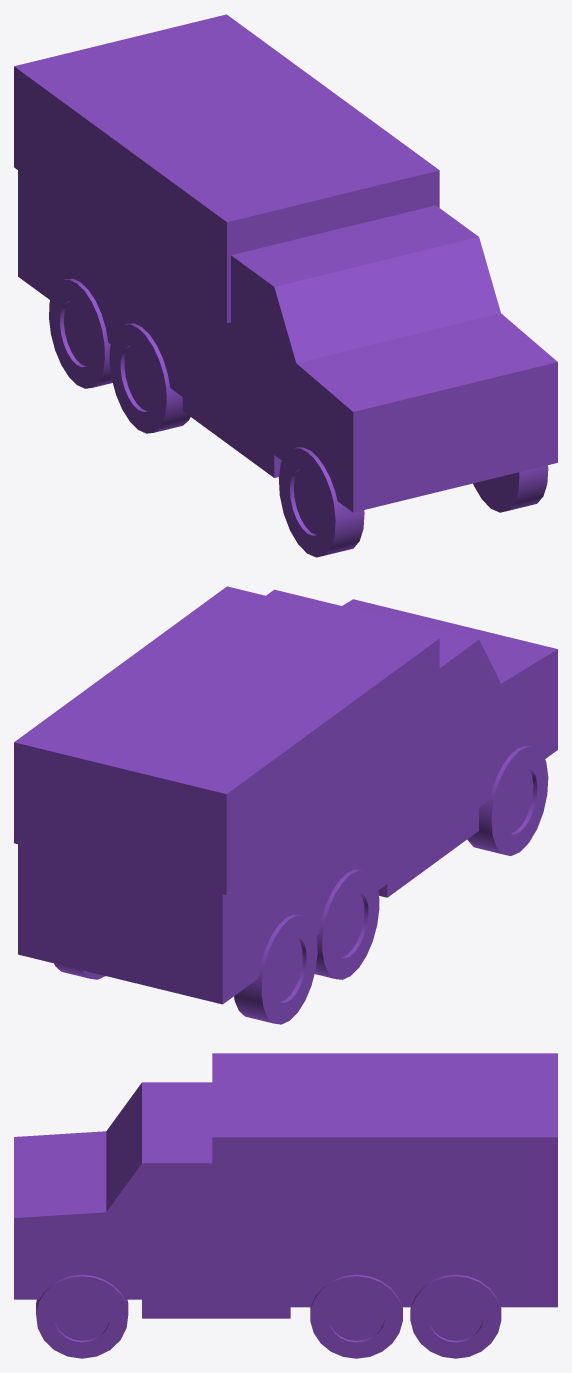
Rendered from Boardgame_Piece_Military_Modern_Truck_Purple_01.fbx.
3 renders of one model, top to bottom at view 1: azimuth 30°, elevation 25°; view 2: azimuth 150°, elevation 25°; view 3: azimuth 270°, elevation 25°, orthographic. The views are drawn at different scales.
Parts seen in each view (by area): view 1: Boardgame_Piece_Military_Modern_Truck_Purple_01; view 2: Boardgame_Piece_Military_Modern_Truck_Purple_01; view 3: Boardgame_Piece_Military_Modern_Truck_Purple_01.
Part boxes in pixels (x1,y1,x2,y2): Boardgame_Piece_Military_Modern_Truck_Purple_01: (14,14,557,557); Boardgame_Piece_Military_Modern_Truck_Purple_01: (14,586,557,1024); Boardgame_Piece_Military_Modern_Truck_Purple_01: (14,1053,557,1358).
Size of the model in its own units: 25.31 by 31 by 69.09.
